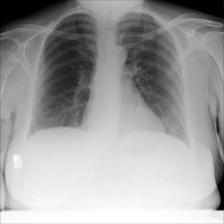normal: (29, 12, 191, 147)
